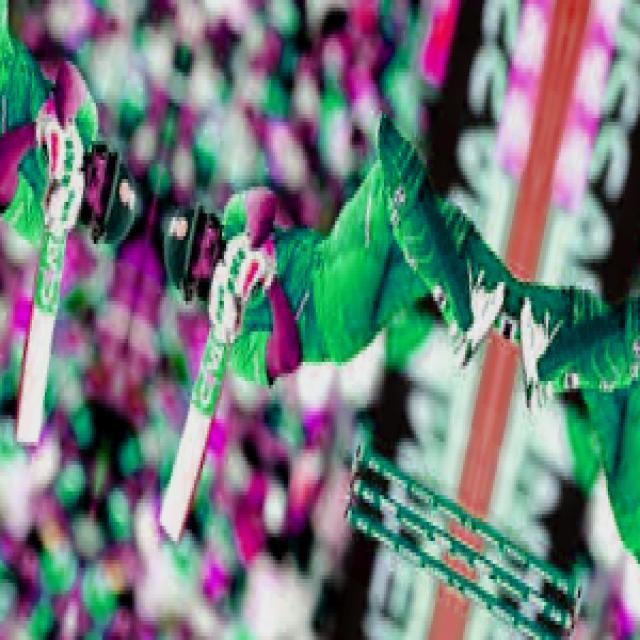toe: (157, 503, 182, 545)
